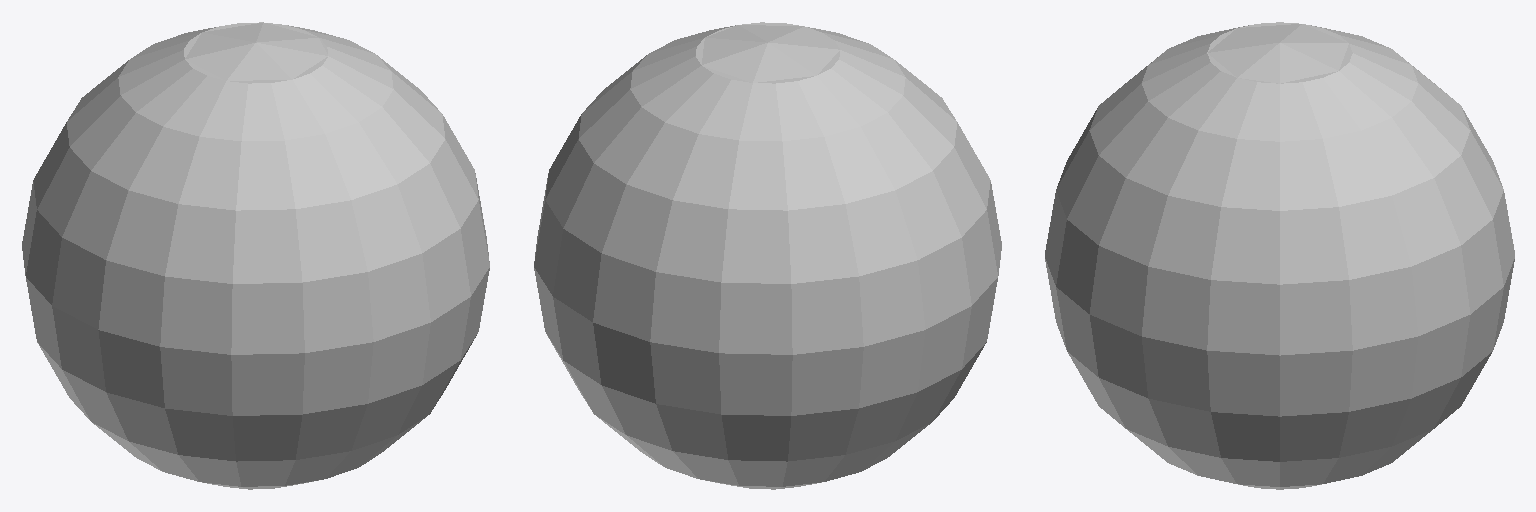
Rendered from triangleStepExpanderL.obj.
The picture shows the model from 3 angles: view 1: azimuth 30°, elevation 25°; view 2: azimuth 150°, elevation 25°; view 3: azimuth 270°, elevation 25°; orthographic projection.
Visible parts, largest first — view 1: Default; view 2: Default; view 3: Default.
Part boxes in pixels (x1,y1,x2,y2): Default: (22,22,489,489); Default: (534,22,1001,489); Default: (1045,22,1514,489).
Size of the model in its own units: 0.925 by 0.925 by 0.925.